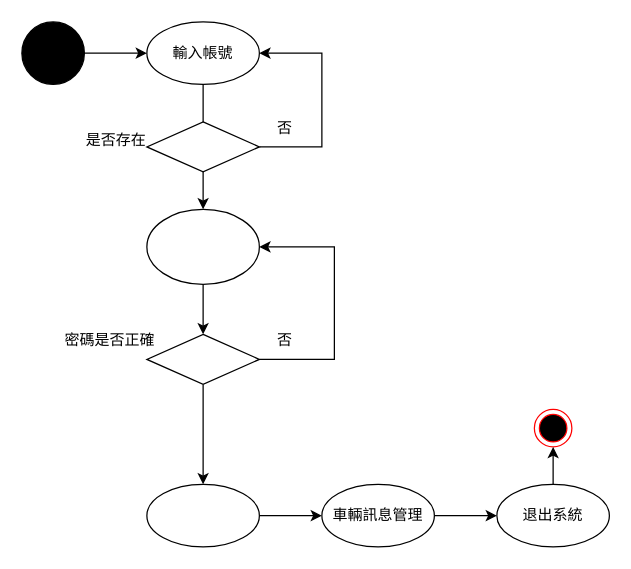
Some shapes in this 631 by 569 pixel diagram are drawn without their labels. Here are the shapes that lost their labels. From the top down, the box of each, then its label:
(146, 208, 259, 284): 輸入密碼
(146, 483, 259, 547): 進入系統
